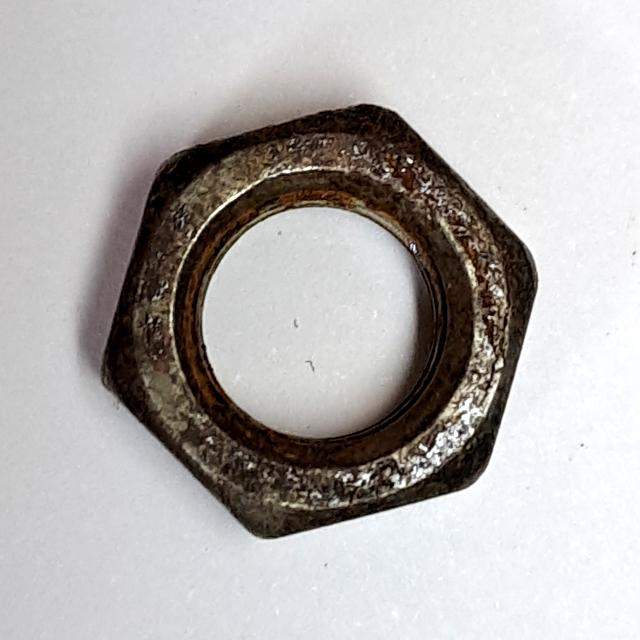Rust: (87, 94, 552, 548)
